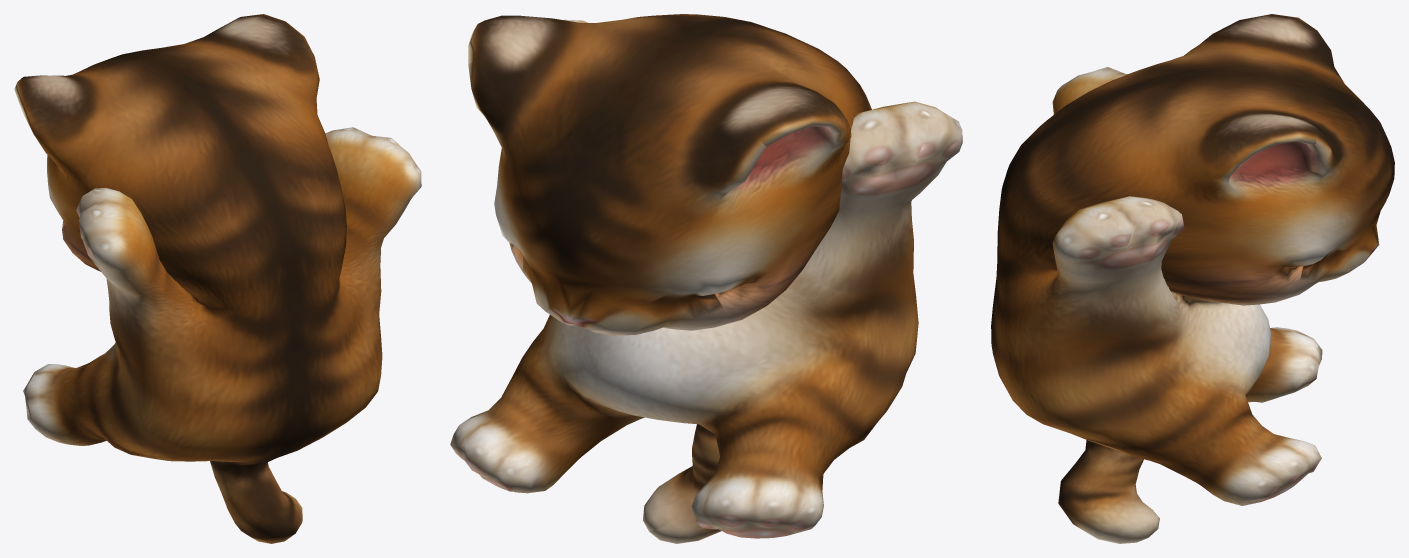
File: cat2.gltf
3 renders of one model, left to right at view 1: azimuth 30°, elevation 25°; view 2: azimuth 150°, elevation 25°; view 3: azimuth 270°, elevation 25°, orthographic. The views are drawn at different scales.
Visible parts, largest first — view 1: cat2; view 2: cat2; view 3: cat2.
Boxes of the visible parts, bbox=[...] form: cat2: bbox=[14, 14, 421, 543]; cat2: bbox=[450, 14, 962, 543]; cat2: bbox=[991, 14, 1394, 543].
Size of the model in its own units: 1.28 by 1.64 by 1.33.
1 material, 1 textured.
